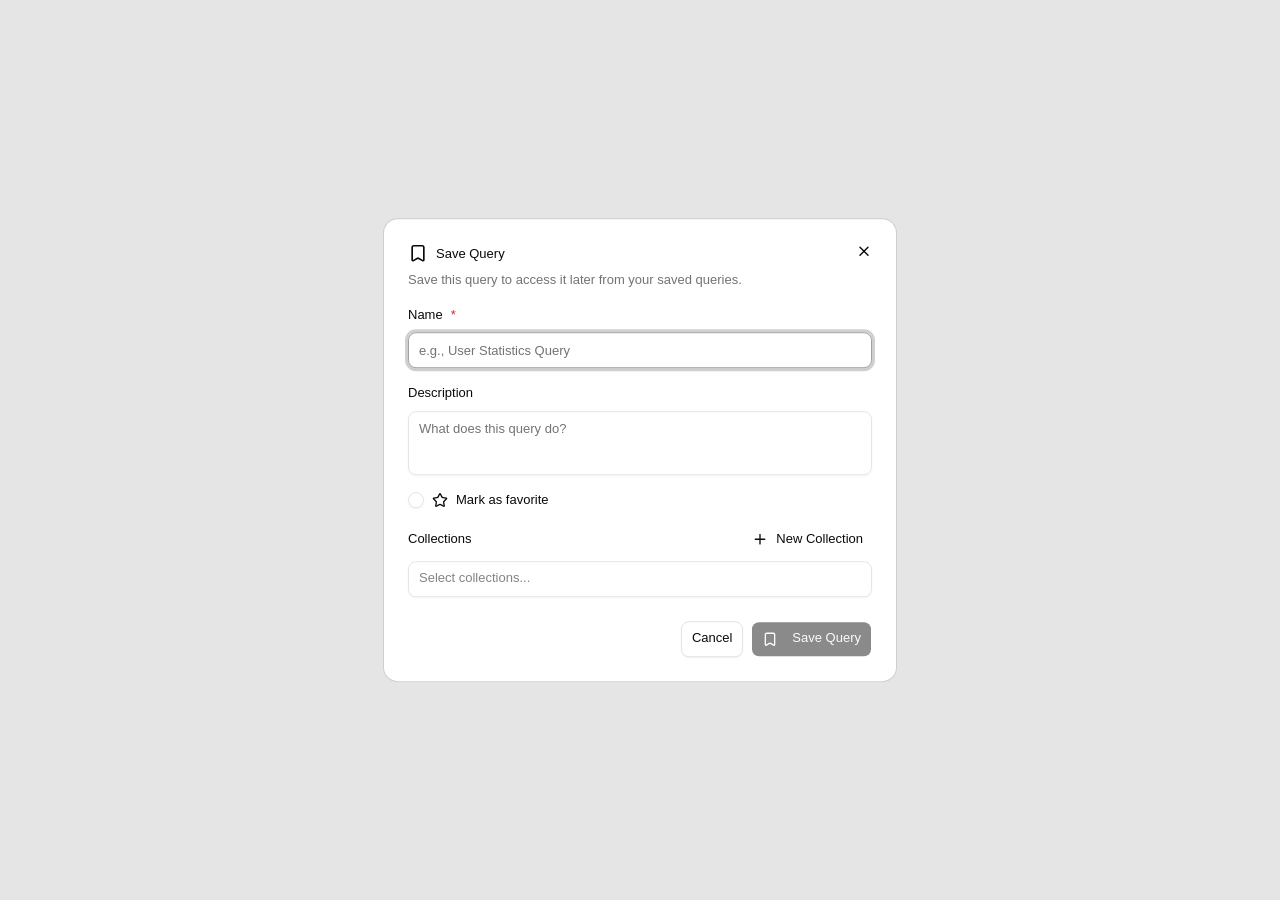
Test: saveQueryDialog › form fields › should toggle favorite checkbox
This screenshot has width=1280, height=900.
Click the 1st checkbox at point(416, 500), box [408, 492, 424, 508]
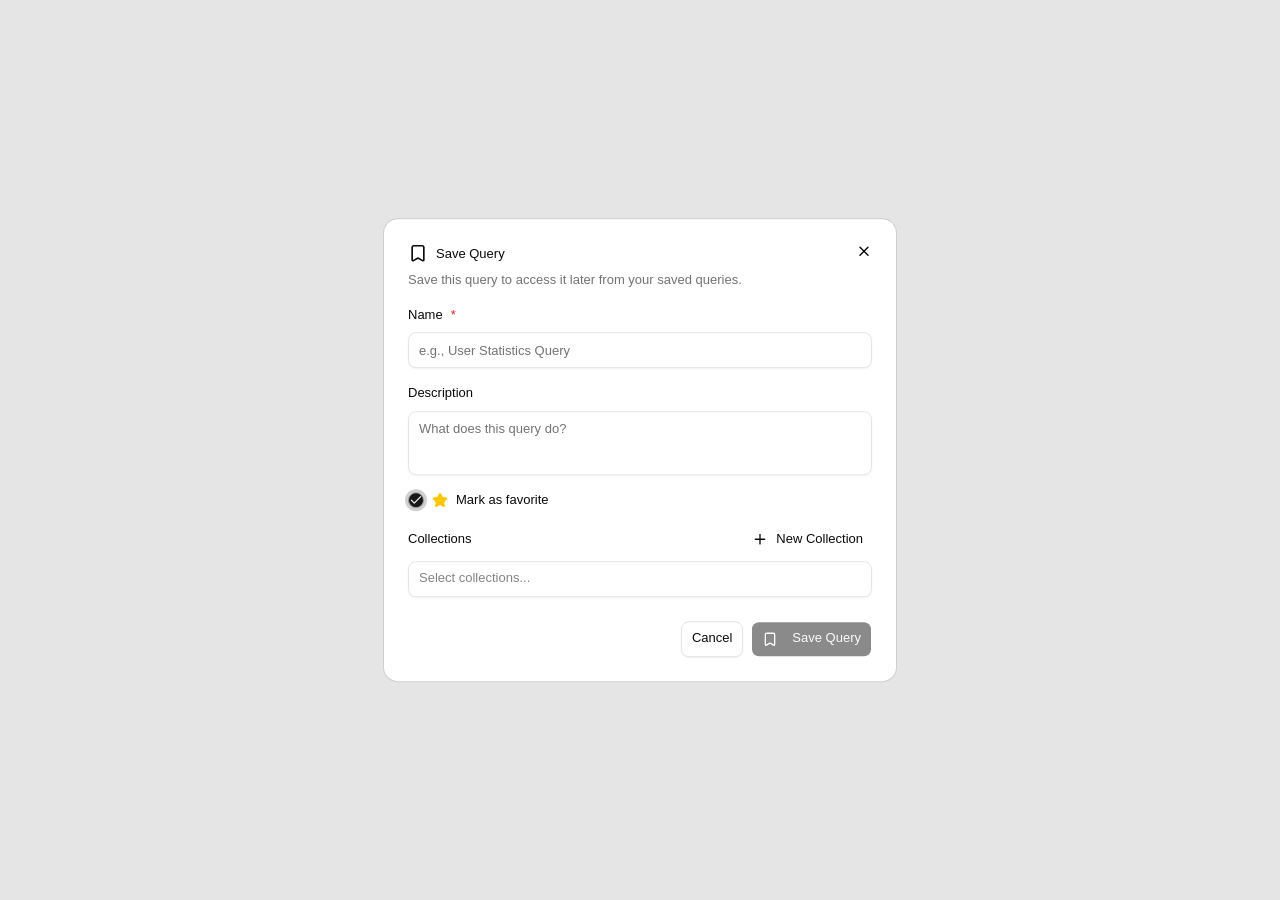
Expected: the 1st checkbox is checked, [408, 492, 424, 508]
